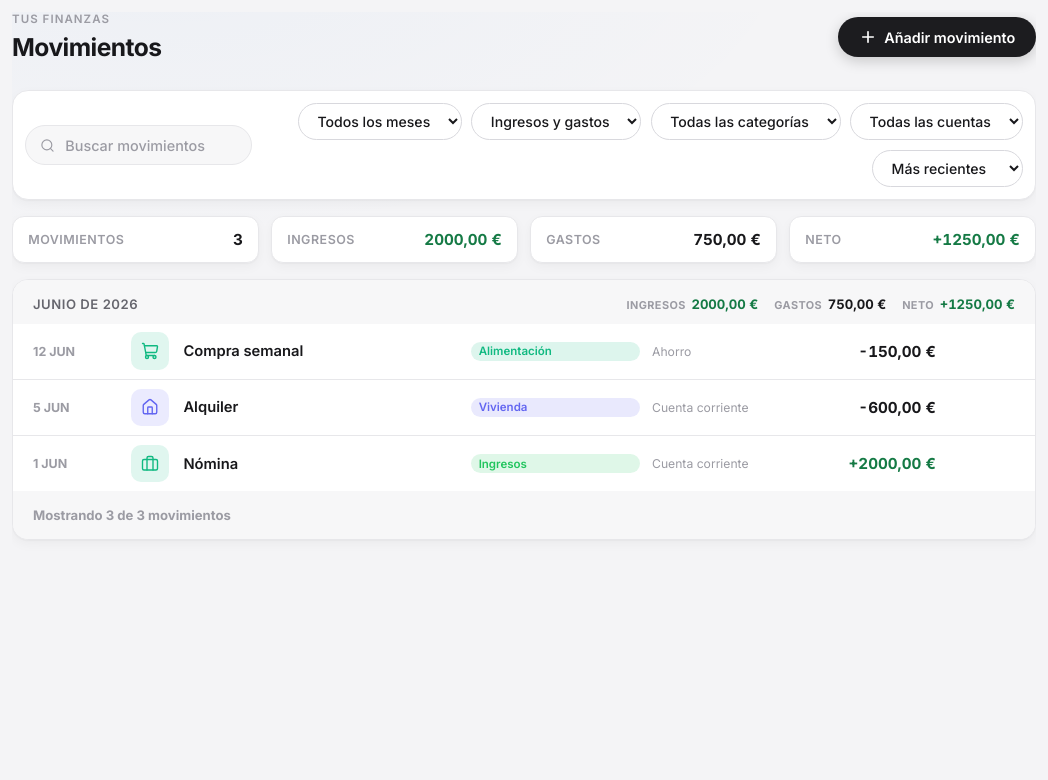
Test: TransactionsPage › offers to clear filters when only the sort order changes
expect the button "Limpiar" is not shown: met
Select "Importe mayor" in the dropdown named "Orden" at (948, 168), box 872,150 -> 1023,187
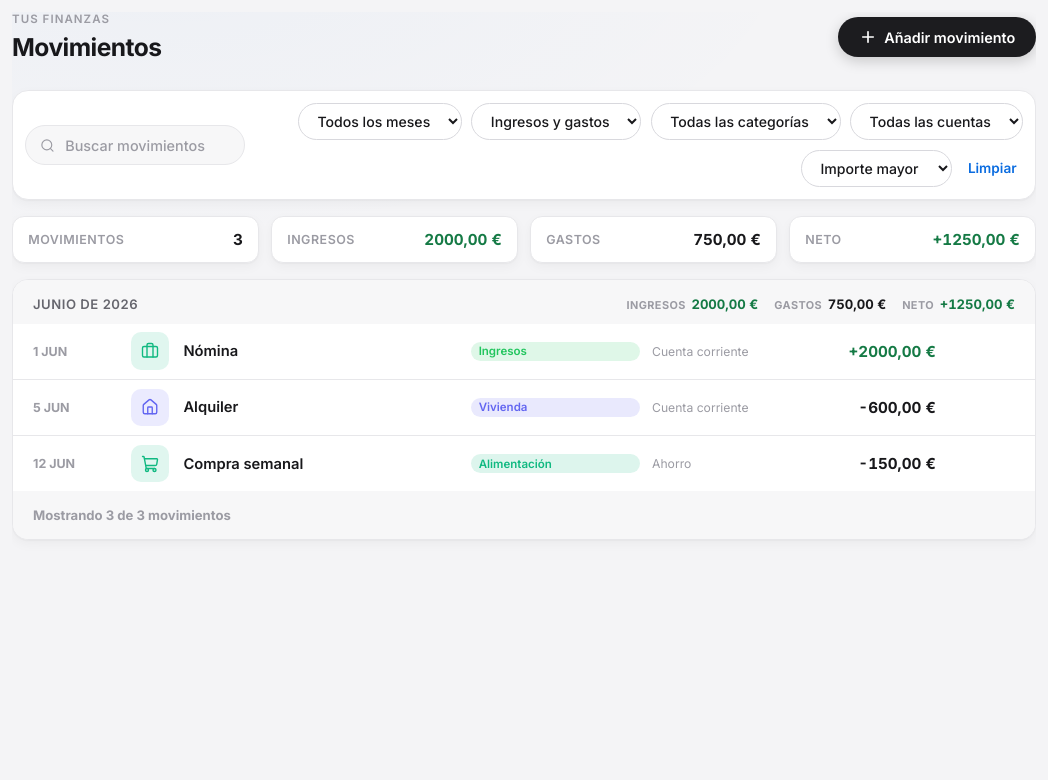
Click the button "Limpiar" at (992, 168), box 962,152 -> 1023,184
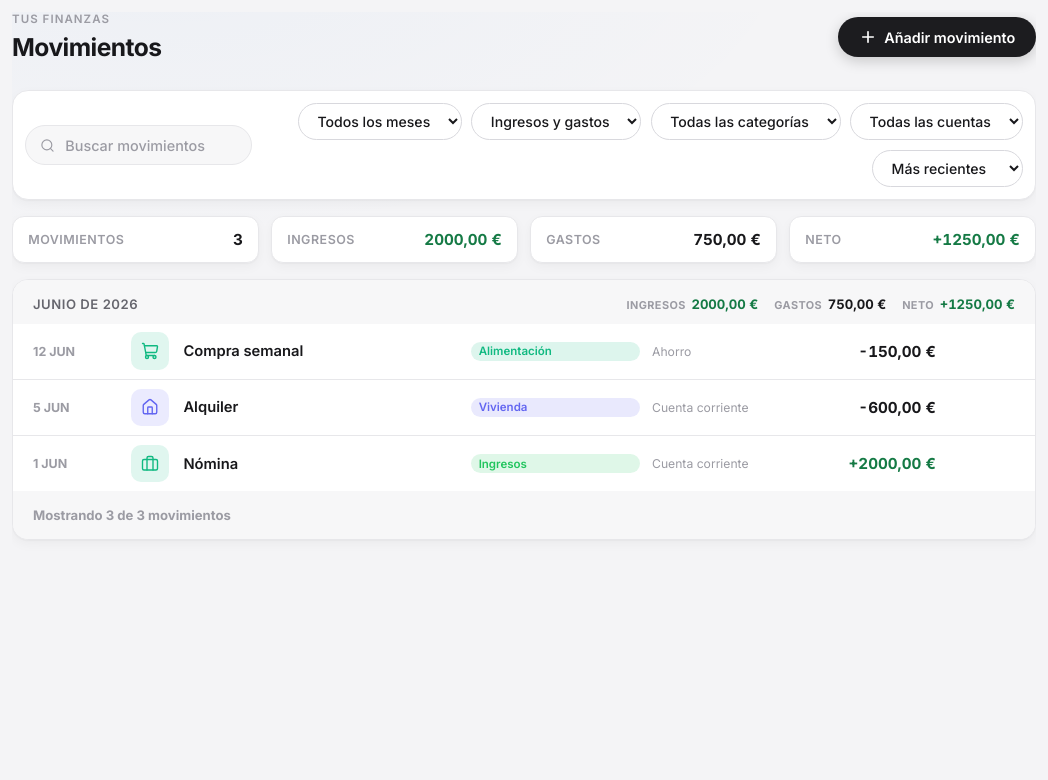
expect the button "Limpiar" is gone: met
